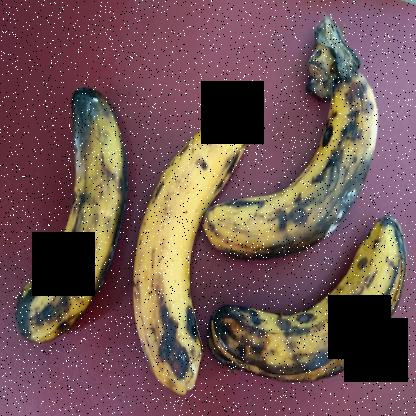overripe: (128, 97, 268, 412)
rotten: (11, 63, 145, 352), (201, 64, 390, 260), (213, 222, 415, 393)
